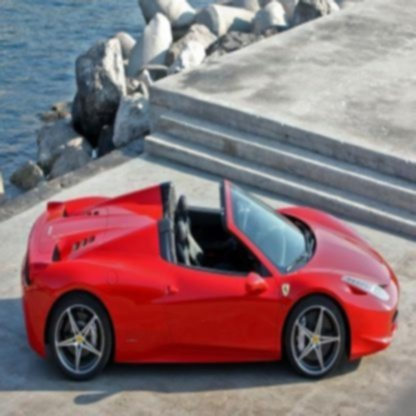Vehicle: (19, 177, 405, 385)
